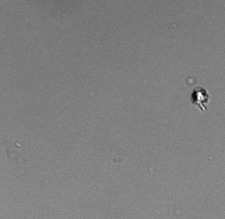Living Cell: (191, 87, 208, 104)
